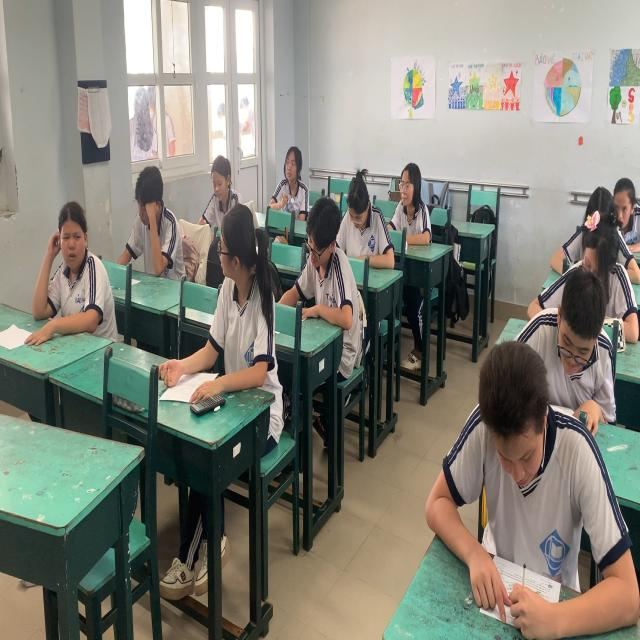cheating: (32, 191, 118, 340), (218, 201, 279, 396)
not_cheating: (440, 345, 613, 603), (527, 271, 609, 429), (296, 182, 356, 310), (584, 214, 640, 350), (127, 158, 183, 280), (340, 162, 396, 274), (387, 158, 432, 254), (266, 136, 310, 221), (605, 172, 640, 244), (199, 152, 235, 208)
